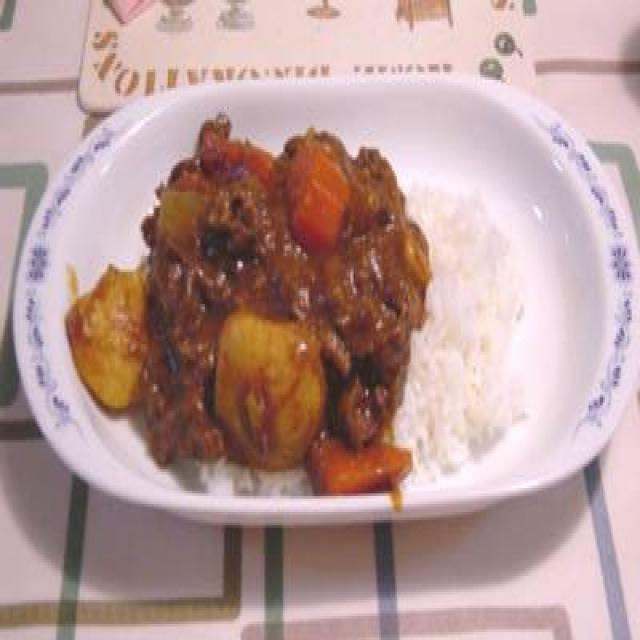牛肉菜式: (11, 69, 634, 515)
